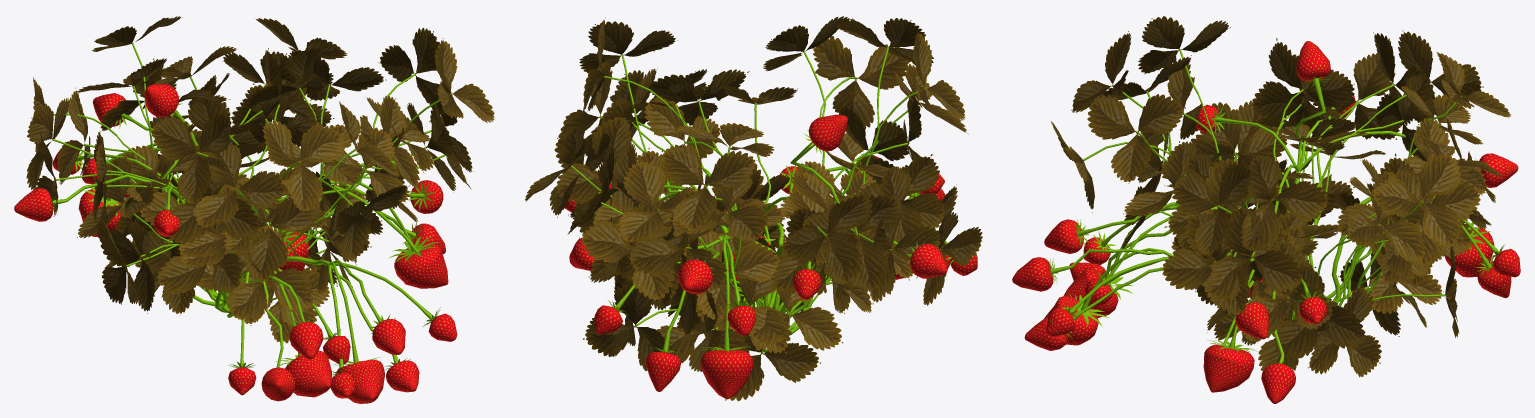
The model's file is strawberry_leafscorch.obj.
The picture shows the model from 3 angles, left to right: view 1: azimuth 30°, elevation 25°; view 2: azimuth 150°, elevation 25°; view 3: azimuth 270°, elevation 25°; orthographic projection. The views are drawn at different scales.
Visible parts, largest first — view 1: Strawberry_001; view 2: Strawberry_001; view 3: Strawberry_001.
Part boxes in pixels (x1,y1,x2,y2): Strawberry_001: (14,16,495,403); Strawberry_001: (525,16,982,401); Strawberry_001: (1012,16,1520,403).
Size of the model in its own units: 0.4843 by 0.3214 by 0.5047.
5 materials, 5 textured.
